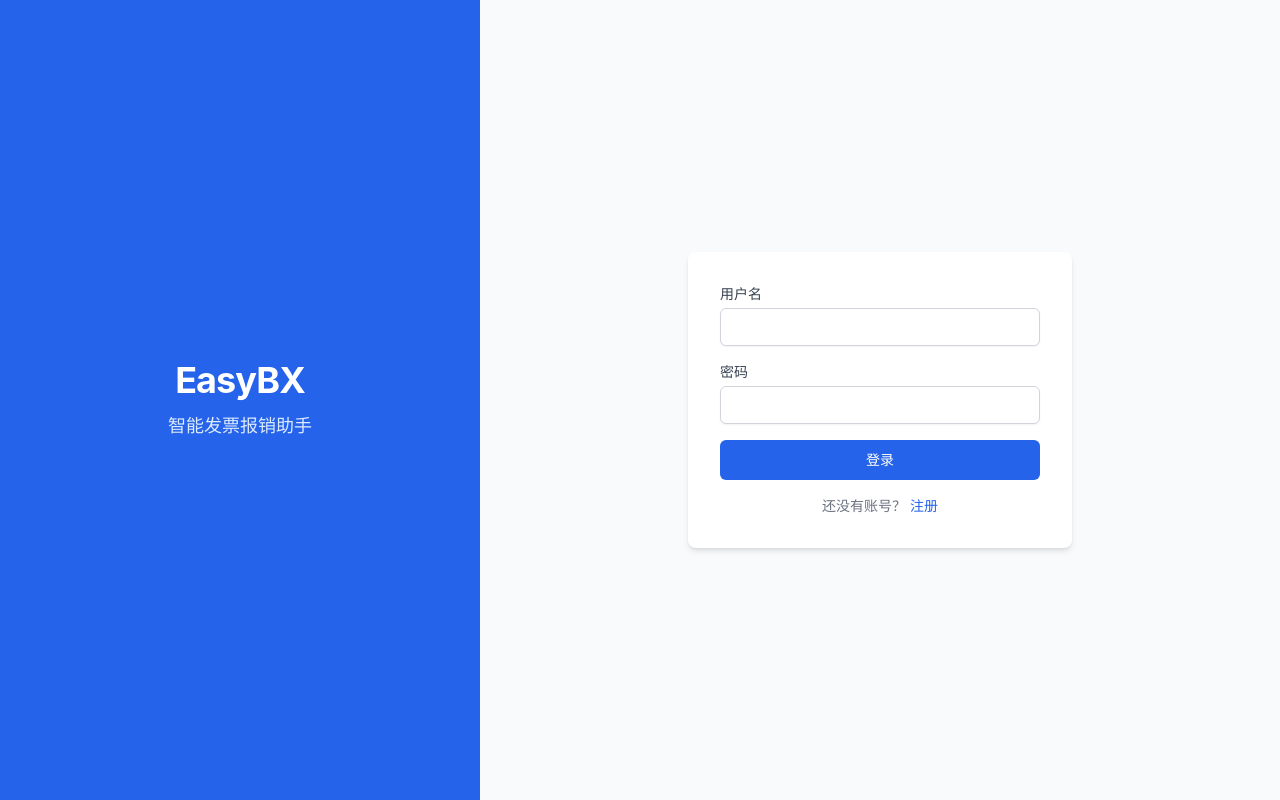
Test case: LoginPage error mapping › shows credentials error, clears password, and focuses password field on 401
In the field labelled "用户名": (880, 327) [720,308,1040,346], type "testuser"
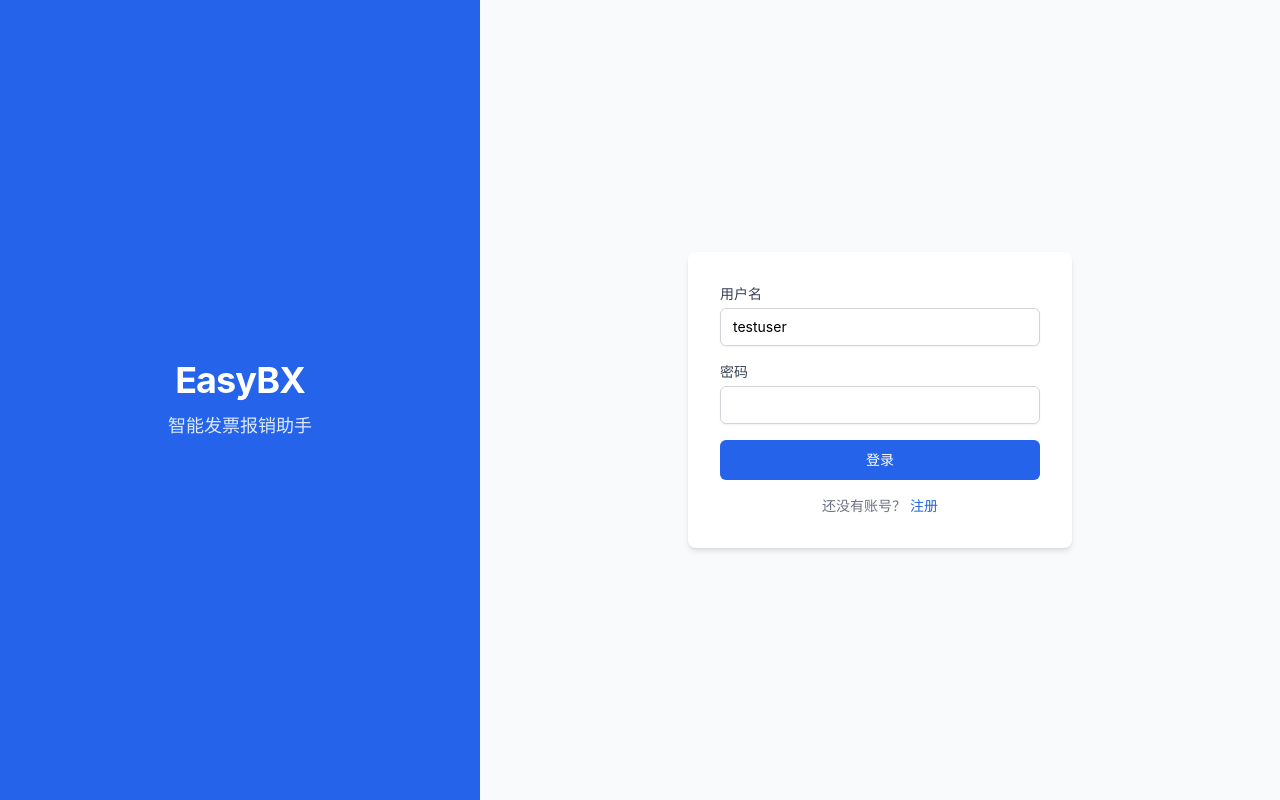
In the password field labelled "密码": (880, 405) [720,386,1040,424], type "wrongpass"
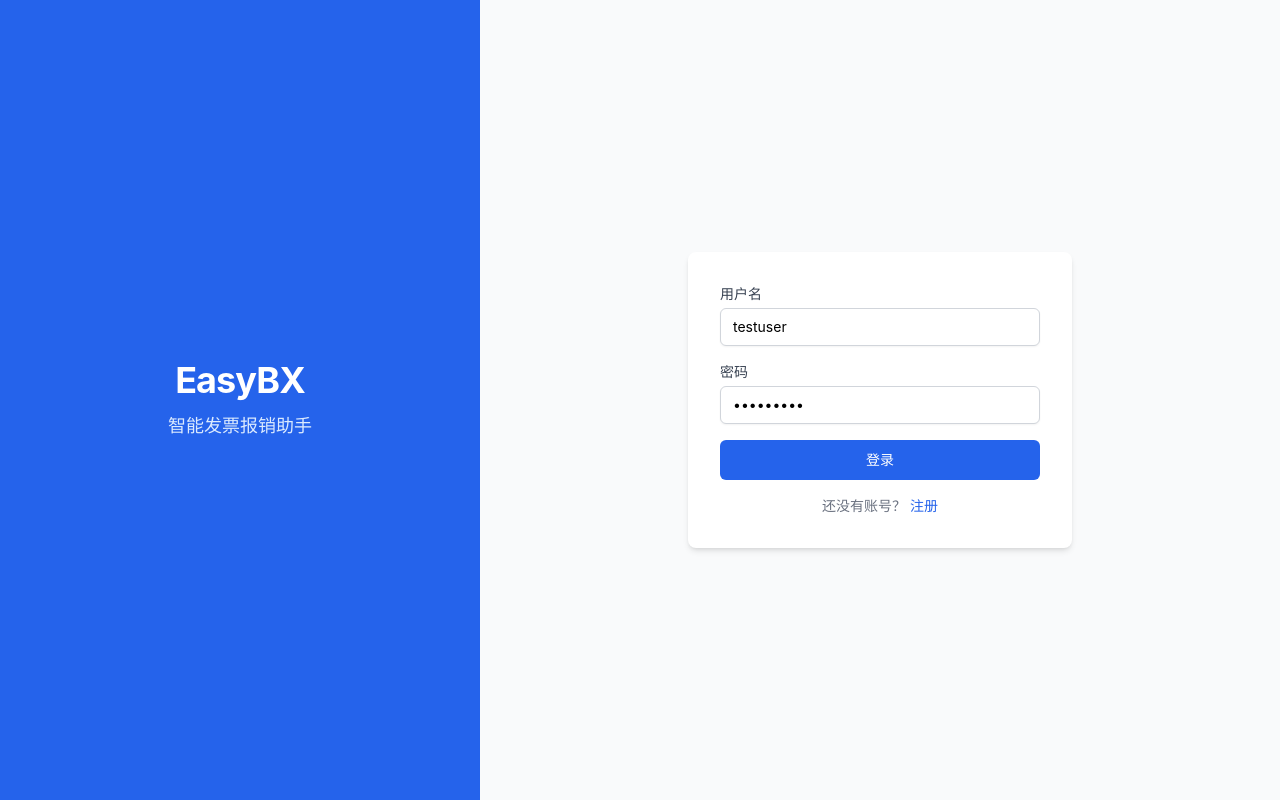
Click the button "登录": (880, 460) [720,440,1040,480]
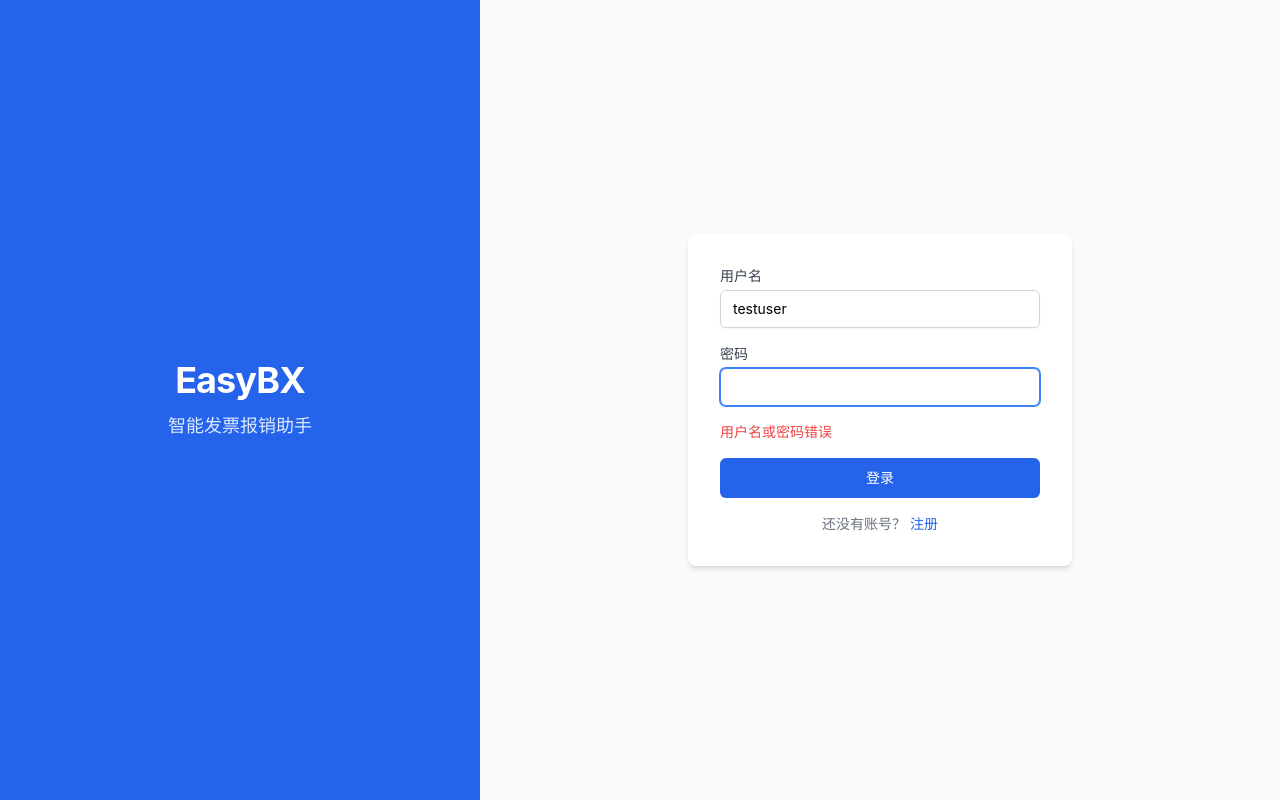
Now the text "用户名或密码错误" is shown, box [720,423,832,440]
Now the password field labelled "密码" is empty, box [720,368,1040,406]
